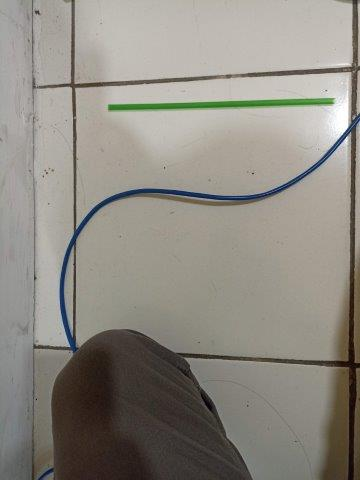sedotan: (108, 97, 335, 111)
